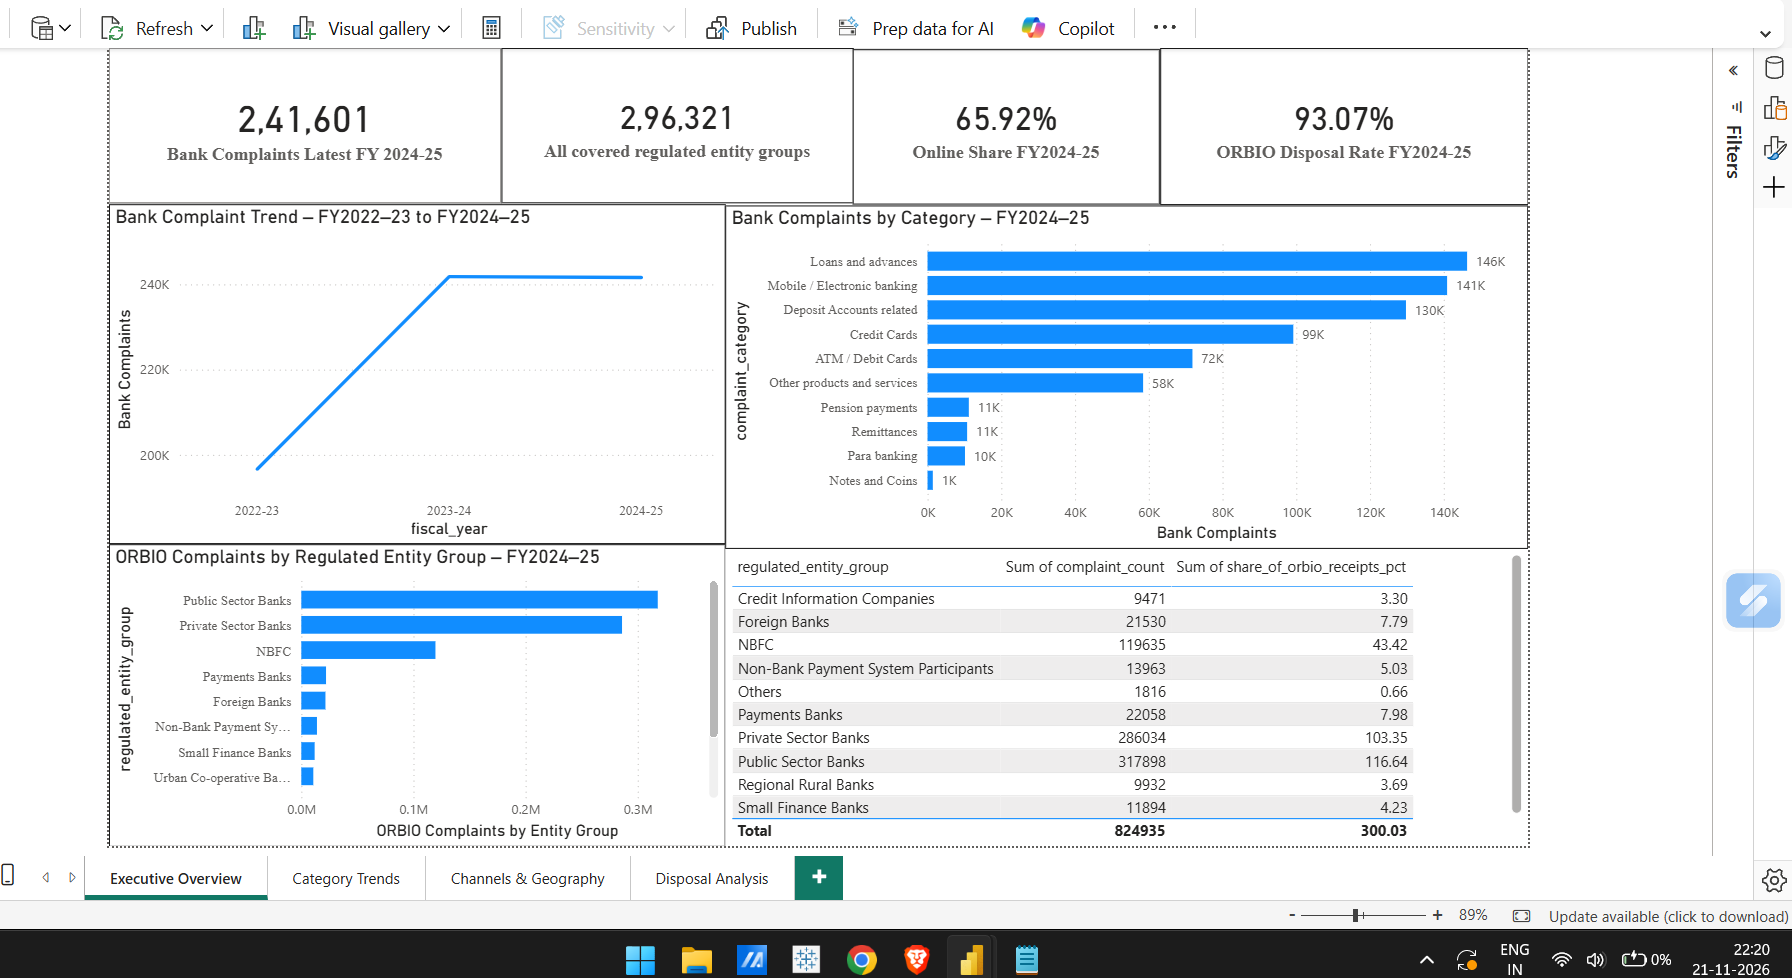

This screenshot's page, from the dashboard's own definition file:
{"tool":"powerbi","page":{"name":"Executive Overview","canvas":[1280,720],"ordinal":0},"visuals":[{"type":"card","title":"BANK COMPLAINTS · FY2024–25","fields":{"Values":["fact_bank_complaint_category.Bank Complaints Latest FY"]},"box":[0,0,353.6,140.2],"z":0},{"type":"card","title":"TOTAL ORBIO COMPLAINTS · FY2024–25","fields":{"Values":["fact_orbio_channel_mix.All covered regulated entity groups"]},"box":[353.6,0,317.6,140.2],"z":1000},{"type":"card","fields":{"Values":["fact_orbio_channel_mix.Online Share FY2024-25"]},"box":[670.9,1.4,277,139.9],"z":2000},{"type":"card","fields":{"Values":["fact_orbio_disposal_overview.ORBIO Disposal Rate FY2024-25"]},"box":[947.9,0,331.8,141.4],"z":3000},{"type":"lineChart","title":"Bank Complaint Trend – FY2022–23 to FY2024–25","fields":{"Category":["DimFiscalYear.fiscal_year"],"Y":["fact_bank_complaint_category.Bank Complaints"]},"box":[0,140.9,555.7,306.6],"z":4000},{"type":"clusteredBarChart","title":"Bank Complaints by Category – FY2024–25","fields":{"Category":["fact_bank_complaint_category.complaint_category"],"Y":["fact_bank_complaint_category.Bank Complaints"]},"box":[555.3,142.4,724.4,309.7],"z":5000},{"type":"clusteredBarChart","title":"ORBIO Complaints by Regulated Entity Group – FY2024–25","fields":{"Category":["fact_orbio_entity_group.regulated_entity_group"],"Y":["fact_orbio_entity_group.ORBIO Complaints by Entity Group"]},"box":[0,447.5,555.7,272.8],"z":6000},{"type":"tableEx","fields":{"Values":["fact_orbio_entity_group.regulated_entity_group","Sum(fact_orbio_entity_group.complaint_count)","Sum(fact_orbio_entity_group.share_of_orbio_receipts_pct)"]},"box":[556,452,723,268],"z":7000}]}

Visuals, with their boxes on the page's 1280x720 design canvas (x1, y1, x2, y2). These are canvas units, not pixel positions in the 1792x978 screenshot, which may show the page scaled, cropped or inside an application window:
"BANK COMPLAINTS · FY2024–25" card: box=[0, 0, 354, 140]
"TOTAL ORBIO COMPLAINTS · FY2024–25" card: box=[354, 0, 671, 140]
card - fact_orbio_channel_mix.Online Share FY2024-25: box=[671, 1, 948, 141]
card - fact_orbio_disposal_overview.ORBIO Disposal Rate FY2024-25: box=[948, 0, 1280, 141]
"Bank Complaint Trend – FY2022–23 to FY2024–25" lineChart: box=[0, 141, 556, 448]
"Bank Complaints by Category – FY2024–25" clusteredBarChart: box=[555, 142, 1280, 452]
"ORBIO Complaints by Regulated Entity Group – FY2024–25" clusteredBarChart: box=[0, 448, 556, 720]
tableEx - fact_orbio_entity_group.regulated_entity_group x Sum(fact_orbio_entity_group.complaint_count): box=[556, 452, 1279, 720]
